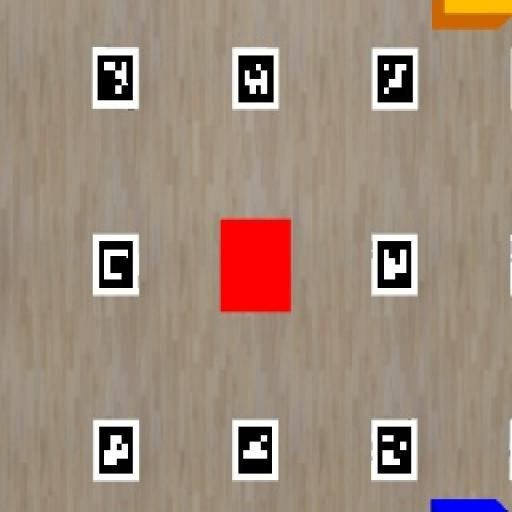car: (431, 498, 507, 511)
fire: (221, 220, 291, 313), (431, 0, 511, 29)
